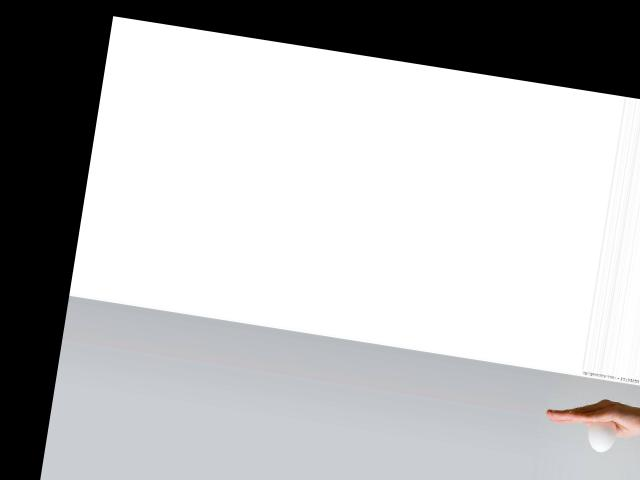egg: (586, 417, 617, 453)
